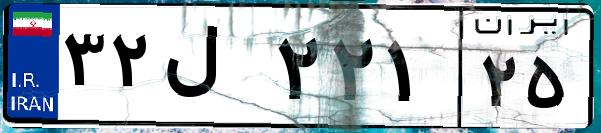1: (385, 28, 445, 110)
2: (270, 28, 330, 110), (330, 28, 385, 110), (475, 38, 525, 113), (110, 28, 158, 98)
3: (57, 26, 110, 100)
5: (525, 38, 570, 115)
ل: (158, 20, 270, 120)
